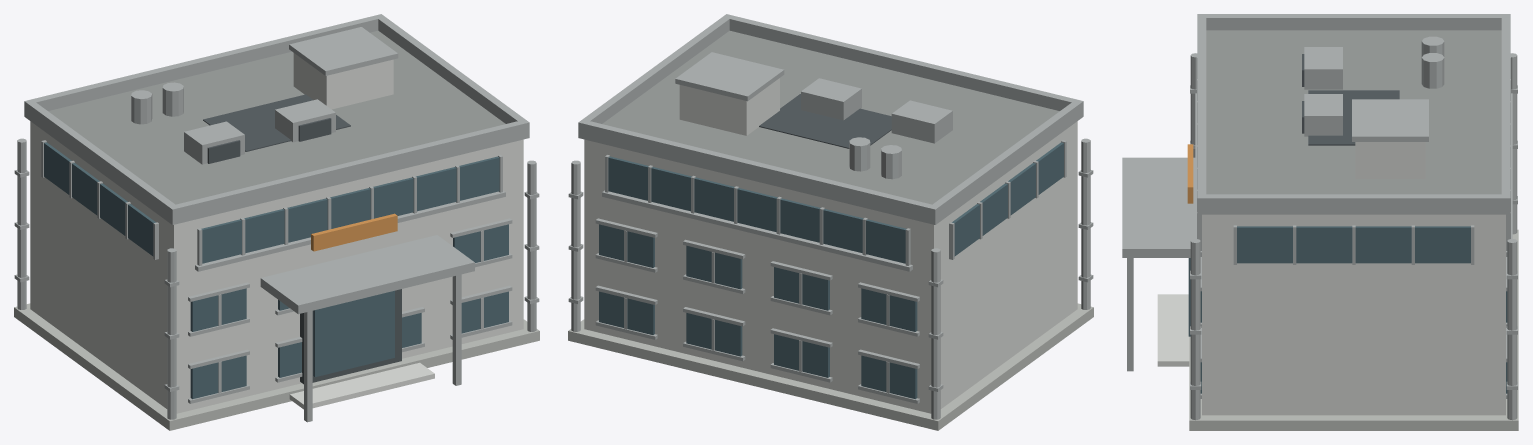
Rendered from inspection.glb.
3 views of the same model, side by side, from view 1: azimuth 30°, elevation 25°; view 2: azimuth 150°, elevation 25°; view 3: azimuth 270°, elevation 25° (orthographic). The views are drawn at different scales.
Parts seen in each view (by area): view 1: inspection; view 2: inspection; view 3: inspection.
Part boxes in pixels (x1,y1,x2,y2): inspection: [14, 14, 539, 430]; inspection: [568, 14, 1093, 430]; inspection: [1122, 14, 1518, 430].
Size of the model in its own units: 3.98 by 2.54 by 3.49.
